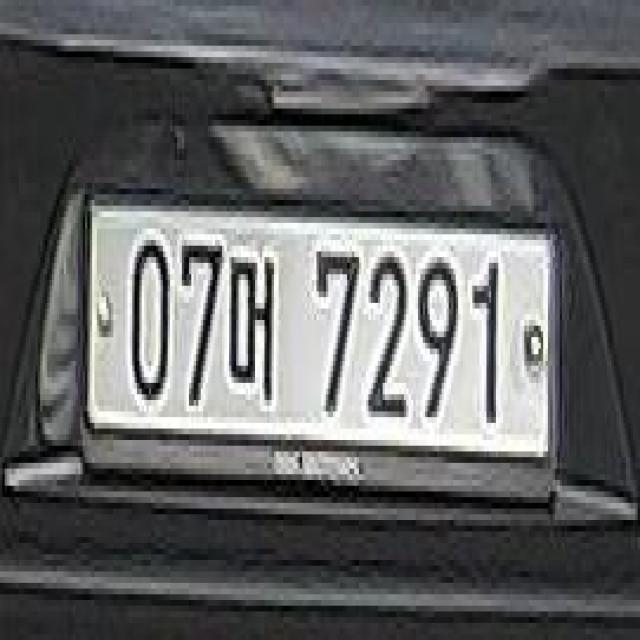illegal_plate: (81, 177, 557, 514)
